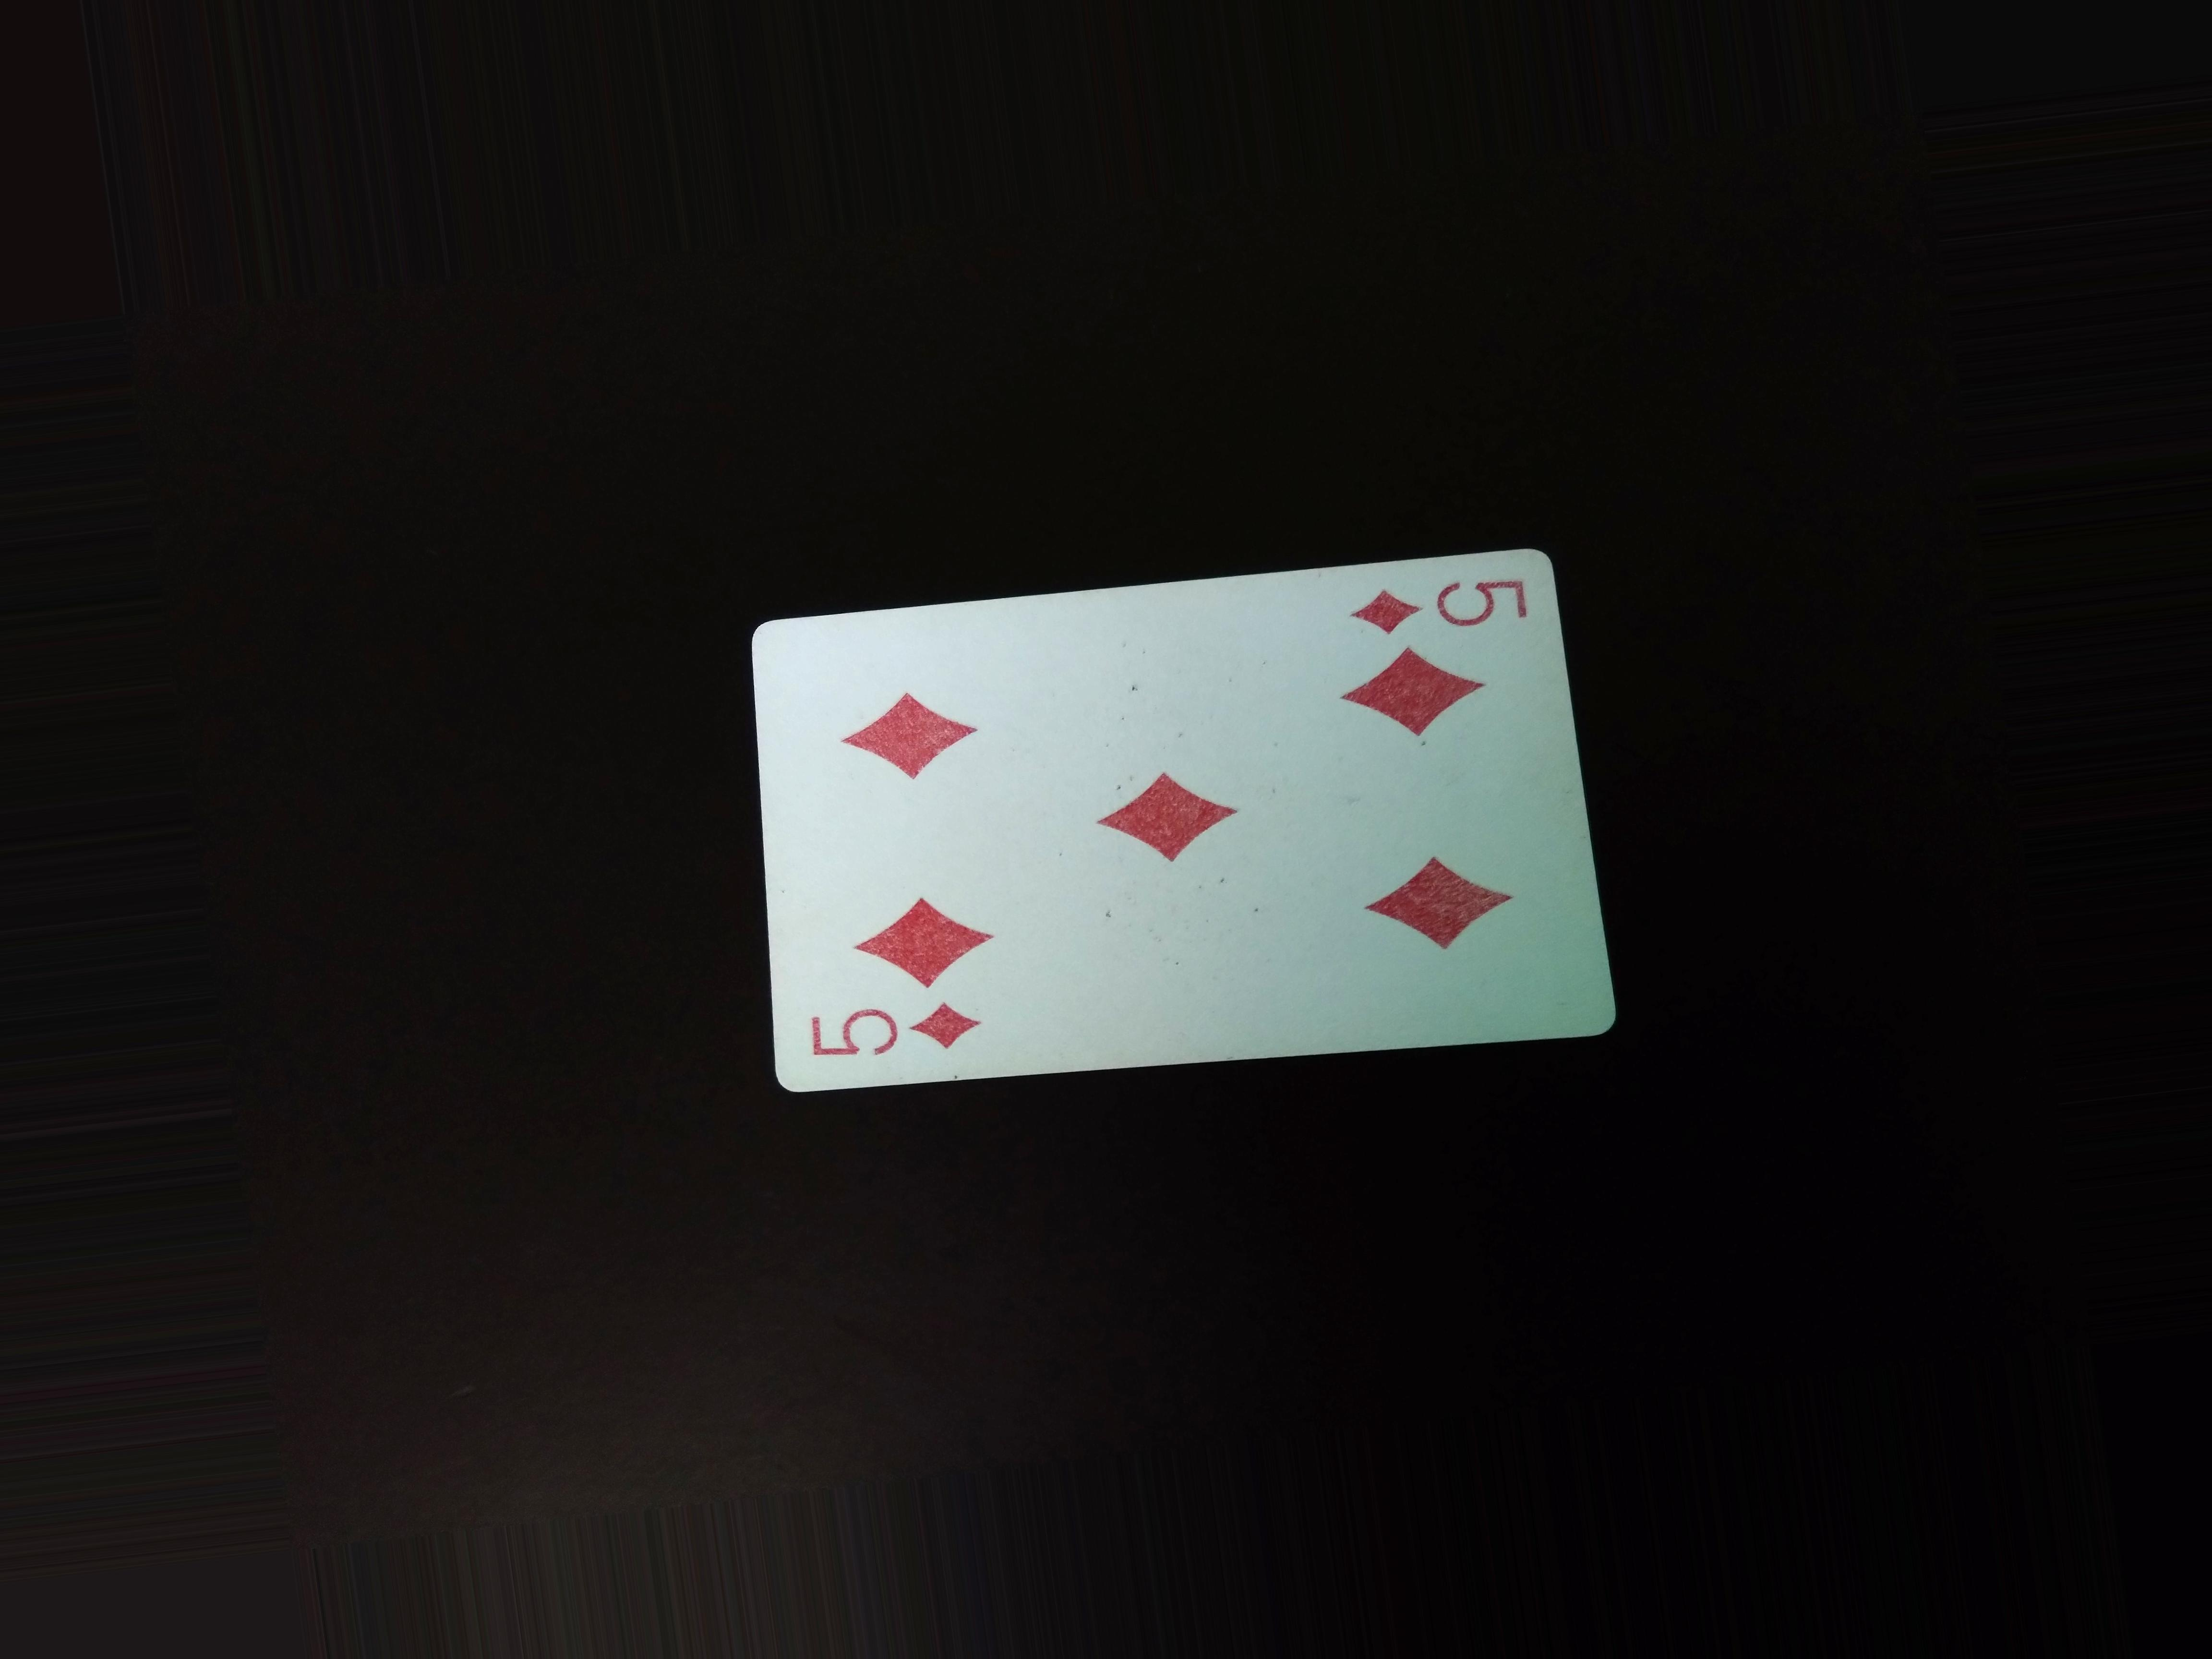5D: (782, 1000, 1035, 1060)
